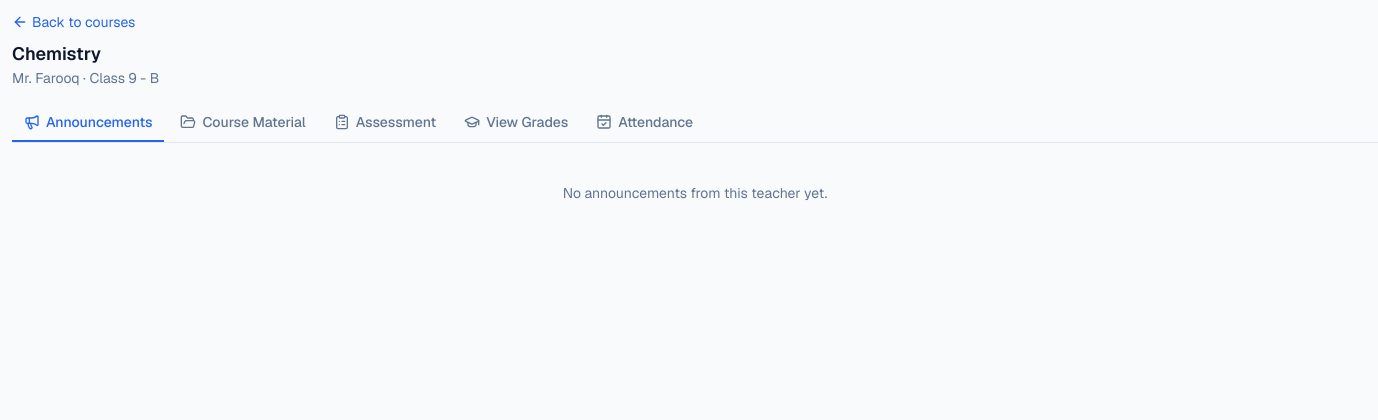
Test case: PortalCourseDetailPage › shows both formal exam grades and self-serve class test results on the View Grades tab, as separate lists
The width and height of the screenshot is (1378, 420).
Click the button "View Grades".
click(516, 123)  # box [452,104,580,142]
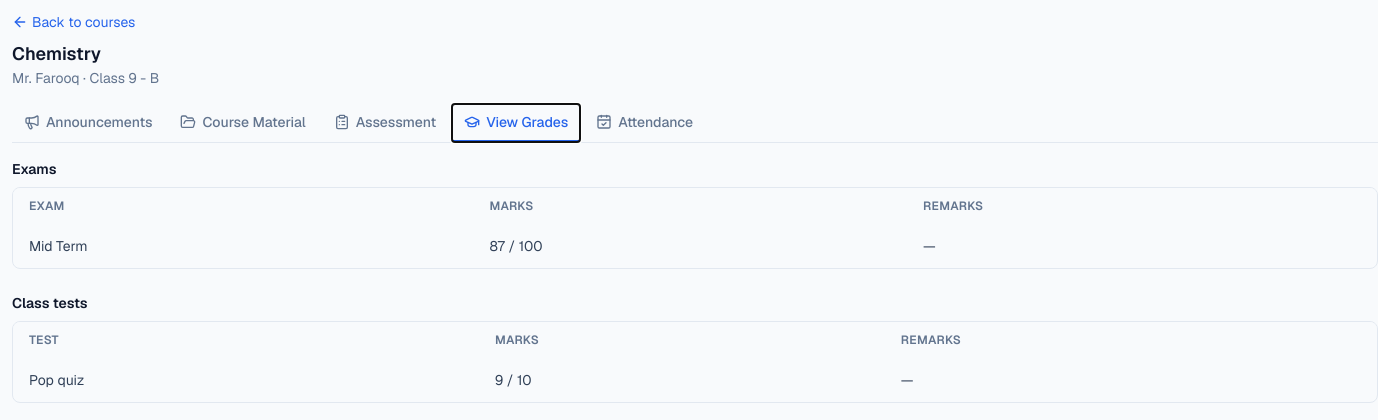
Check: the text "Mid Term" is shown, box [13,224,473,268]
Check: the text "87 / 100" is shown, box [473,224,907,268]
Check: the text "Pop quiz" is shown, box [13,358,479,402]
